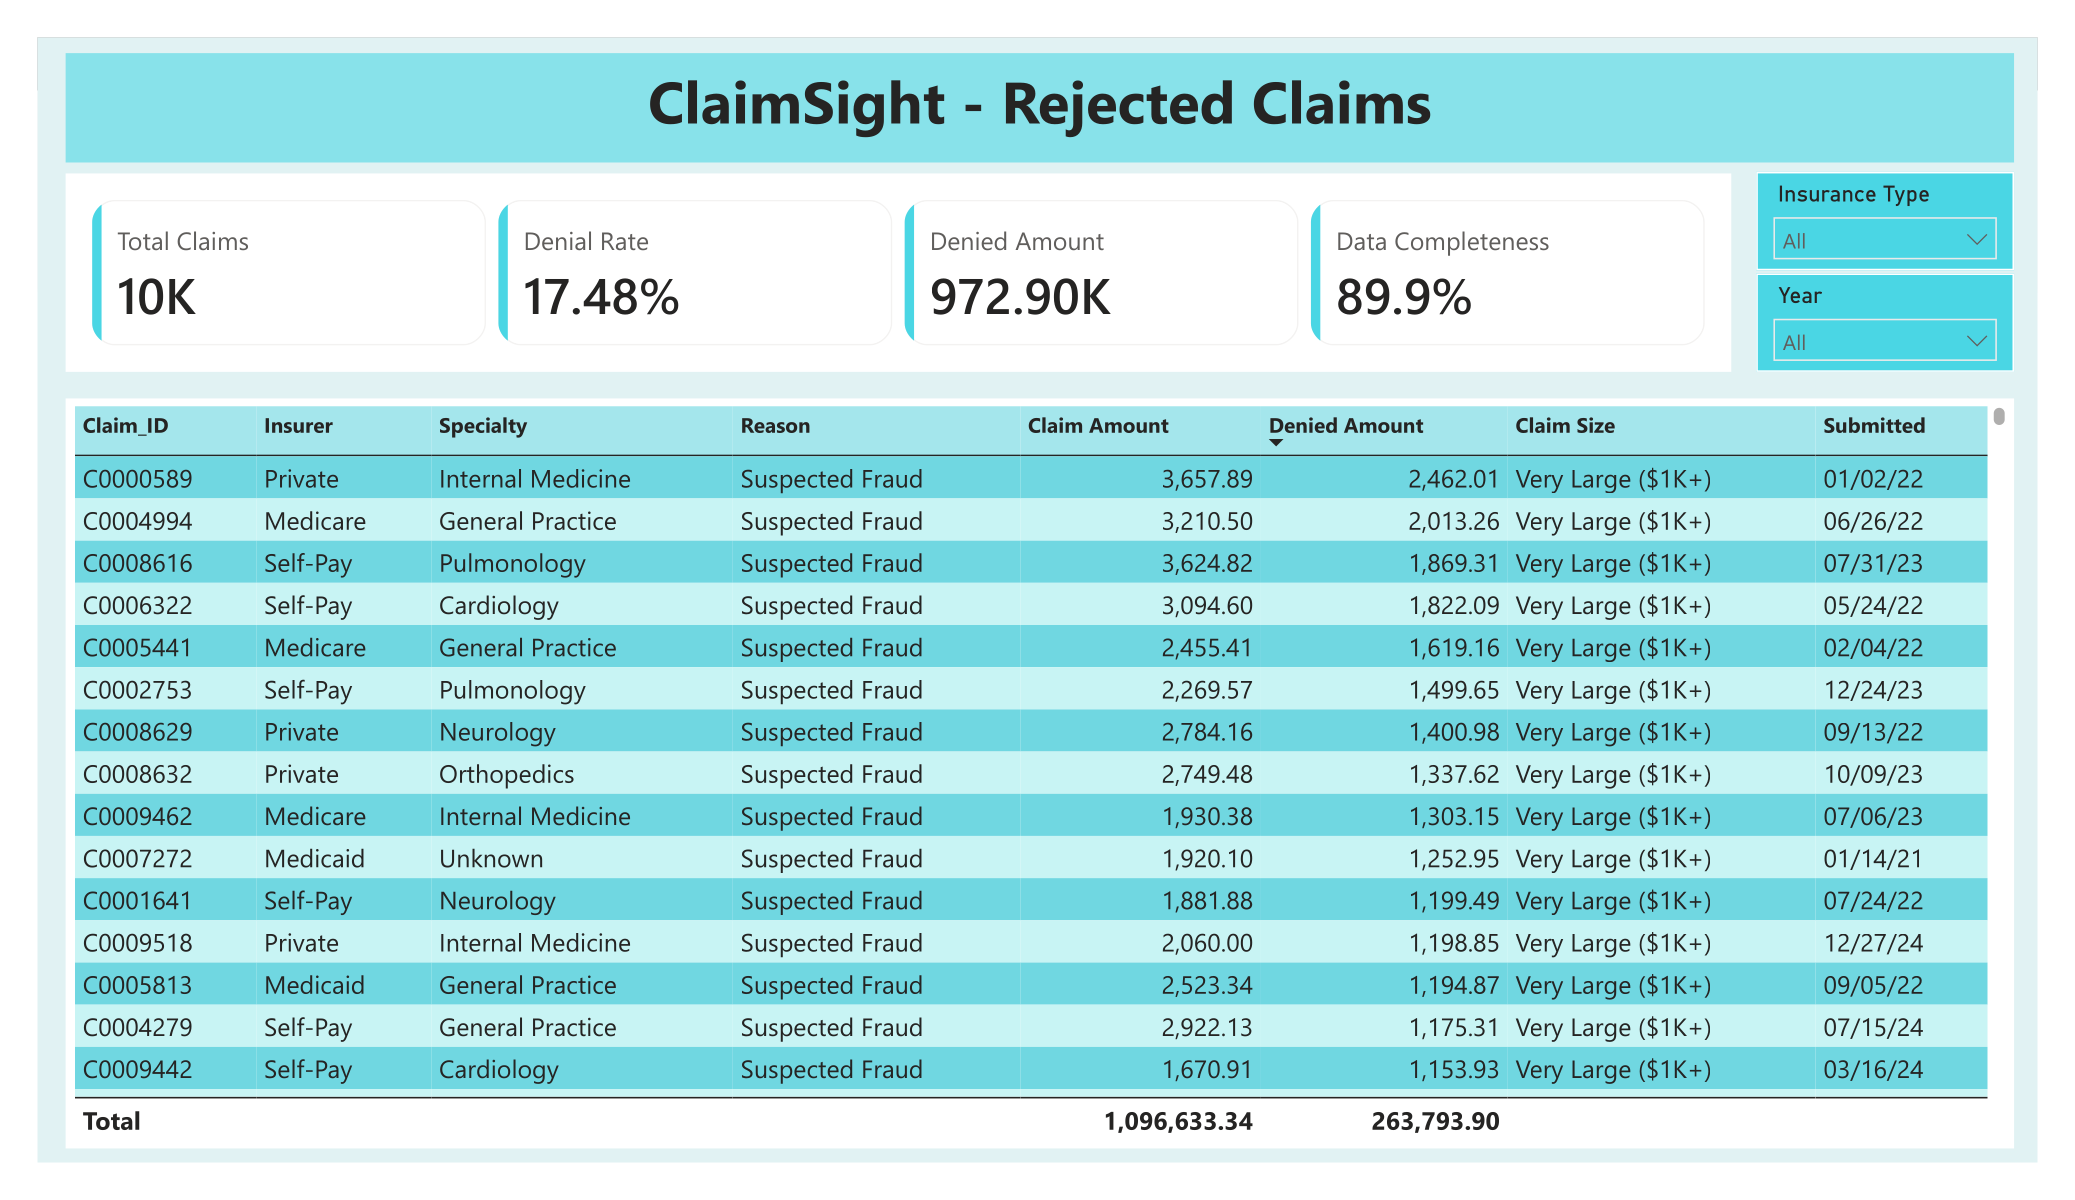

The dashboard page shown, as its layout file describes it:
{"tool":"powerbi","page":{"name":"Rejected Claims","canvas":[1280,720],"ordinal":4},"visuals":[{"type":"slicer","fields":{"Values":["claims.Insurance_Type"]},"box":[1100.2,86.2,164.9,62.8],"z":0},{"type":"slicer","fields":{"Values":["DateTable.Year"]},"box":[1100.2,151.1,164.9,62.8],"z":1000},{"type":"textbox","box":[17.5,9.7,1247.9,70],"z":2000},{"type":"cardVisual","fields":{"Data":["claims.Total Claims","claims.Denial Rate","Sum(claims.Denied_Amount)","claims.Data Completeness"]},"box":[17.5,86.6,1066,127.4],"z":3000},{"type":"tableEx","fields":{"Values":["claims.Claim_ID","claims.Insurance_Type","claims.Provider_Specialty","claims.Denial_Reason","Sum(claims.Claim_Amount)","Sum(claims.Denied_Amount)","claims.Claim_Value_Bucket","claims.Claim_Submission_Date"]},"box":[17.5,230.5,1247.9,480.5],"z":4000}]}

Visuals, with their boxes on the page's 1280x720 design canvas (x1, y1, x2, y2). These are canvas units, not pixel positions in the 2075x1200 screenshot, which may show the page scaled, cropped or inside an application window:
slicer - claims.Insurance_Type: bbox(1100, 86, 1265, 149)
slicer - DateTable.Year: bbox(1100, 151, 1265, 214)
textbox: bbox(18, 10, 1265, 80)
cardVisual - claims.Total Claims x claims.Denial Rate: bbox(18, 87, 1084, 214)
tableEx - claims.Claim_ID x claims.Insurance_Type: bbox(18, 230, 1265, 711)
